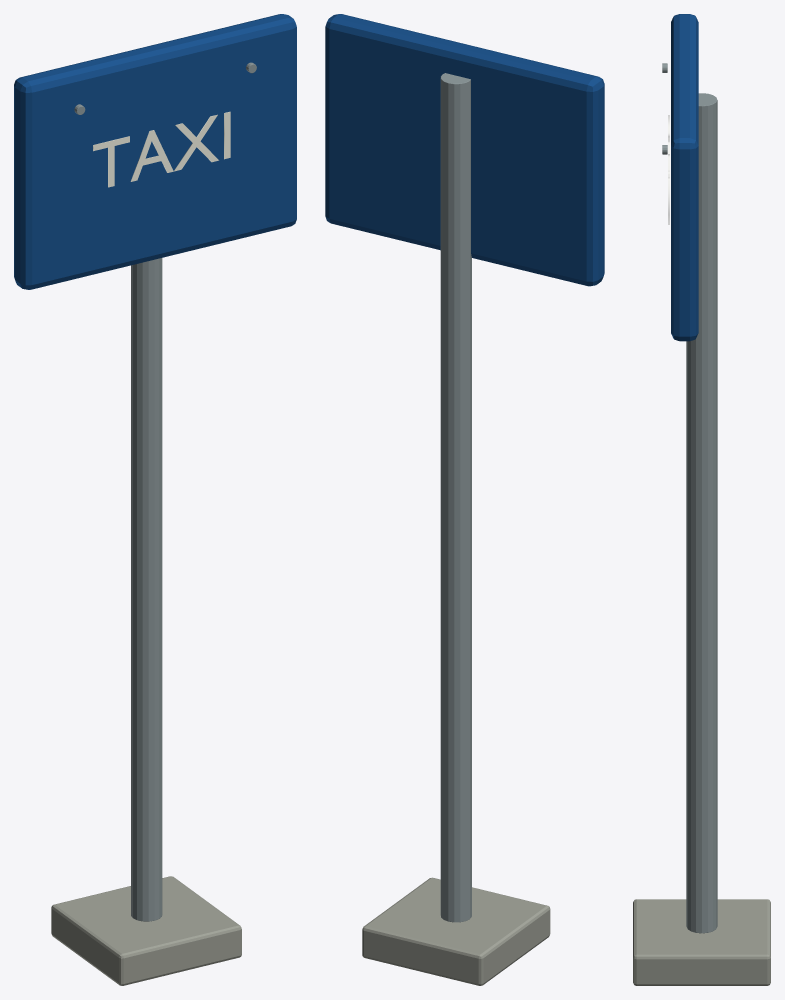
The picture shows the model from 3 angles, left to right: view 1: azimuth 30°, elevation 25°; view 2: azimuth 150°, elevation 25°; view 3: azimuth 270°, elevation 25°; orthographic projection. The views are drawn at different scales.
Parts seen in each view (by area): view 1: SIGN_Panel, SIGN_Pole, SIGN_Foot, TAXI; view 2: SIGN_Panel, SIGN_Pole, SIGN_Foot; view 3: SIGN_Pole, SIGN_Foot, SIGN_Panel.
Boxes of the visible parts, x1,y1,x2,y2 form: SIGN_Panel: (14,14,296,289); SIGN_Pole: (131,258,162,921); SIGN_Foot: (51,876,241,985); TAXI: (93,111,230,187); SIGN_Panel: (325,14,604,286); SIGN_Pole: (440,73,471,922); SIGN_Foot: (362,877,550,985); SIGN_Pole: (686,93,717,933); SIGN_Foot: (633,899,770,985); SIGN_Panel: (671,14,698,341).
Size of the model in its own units: 0.9 by 2.82 by 0.4.
